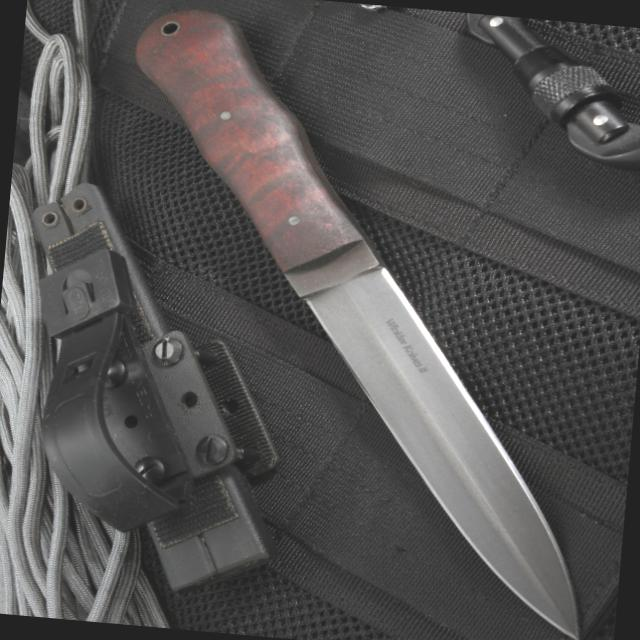knife: (208, 186, 621, 639)
